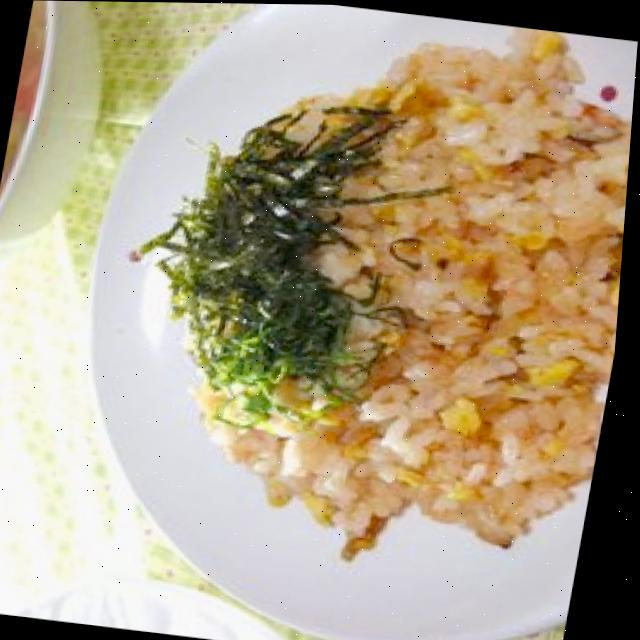米饭主食: (56, 1, 640, 640)
